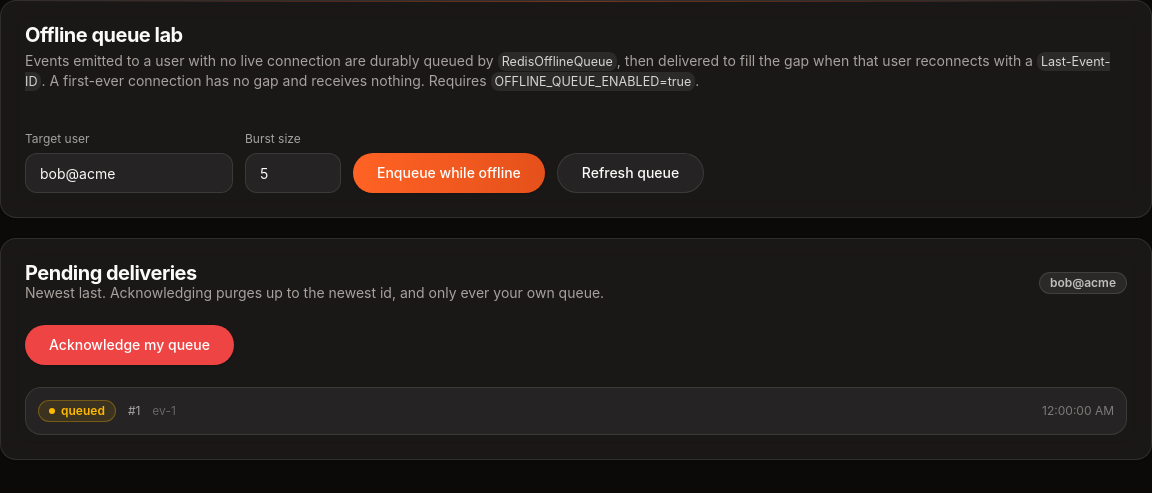
Test: OfflineLabPage › acknowledges the caller own queue up to the newest id
Expected: the text "#1" is shown, [128, 403, 140, 419]
Click the button "Acknowledge my queue" at (130, 345), box [25, 325, 234, 365]
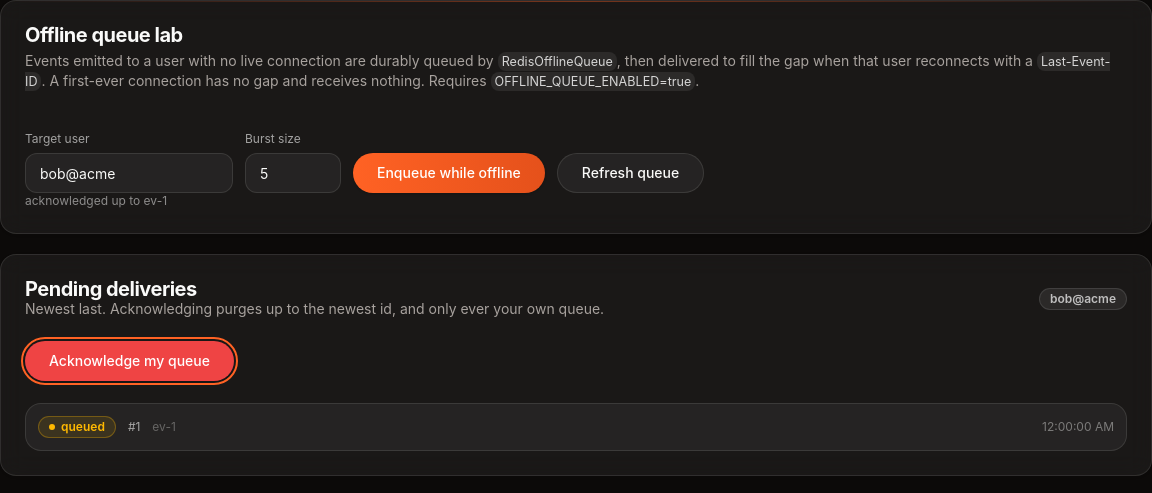
Now the text "acknowledged up to ev-1" is shown, box [25, 193, 167, 208]
